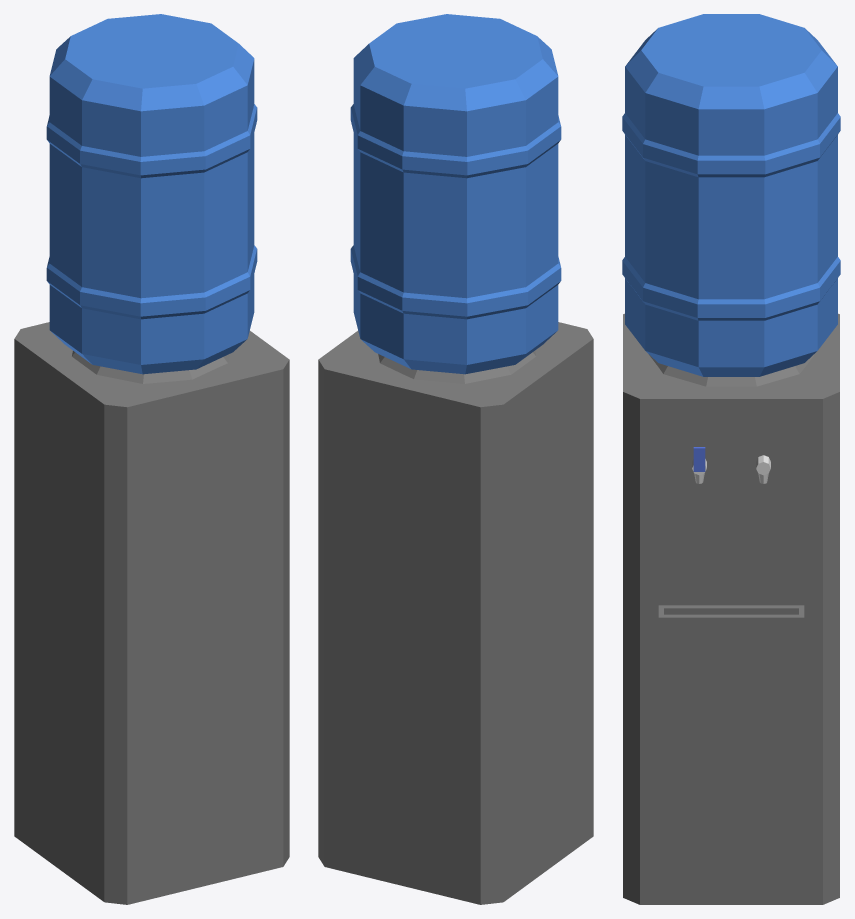
Rendered from water.fbx.
The picture shows the model from 3 angles, left to right: view 1: azimuth 30°, elevation 25°; view 2: azimuth 150°, elevation 25°; view 3: azimuth 270°, elevation 25°; orthographic projection.
Visible parts, largest first — view 1: huitugou_2024_70; view 2: huitugou_2024_70; view 3: huitugou_2024_70.
Part boxes in pixels (x1,y1,x2,y2): huitugou_2024_70: (14, 14, 289, 904); huitugou_2024_70: (318, 14, 593, 904); huitugou_2024_70: (622, 14, 840, 904).
Bounding box in the file's own units: 33.93 × 139 × 34.15.
